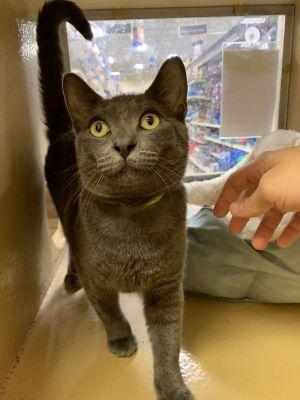rblue: (58, 51, 201, 204)
